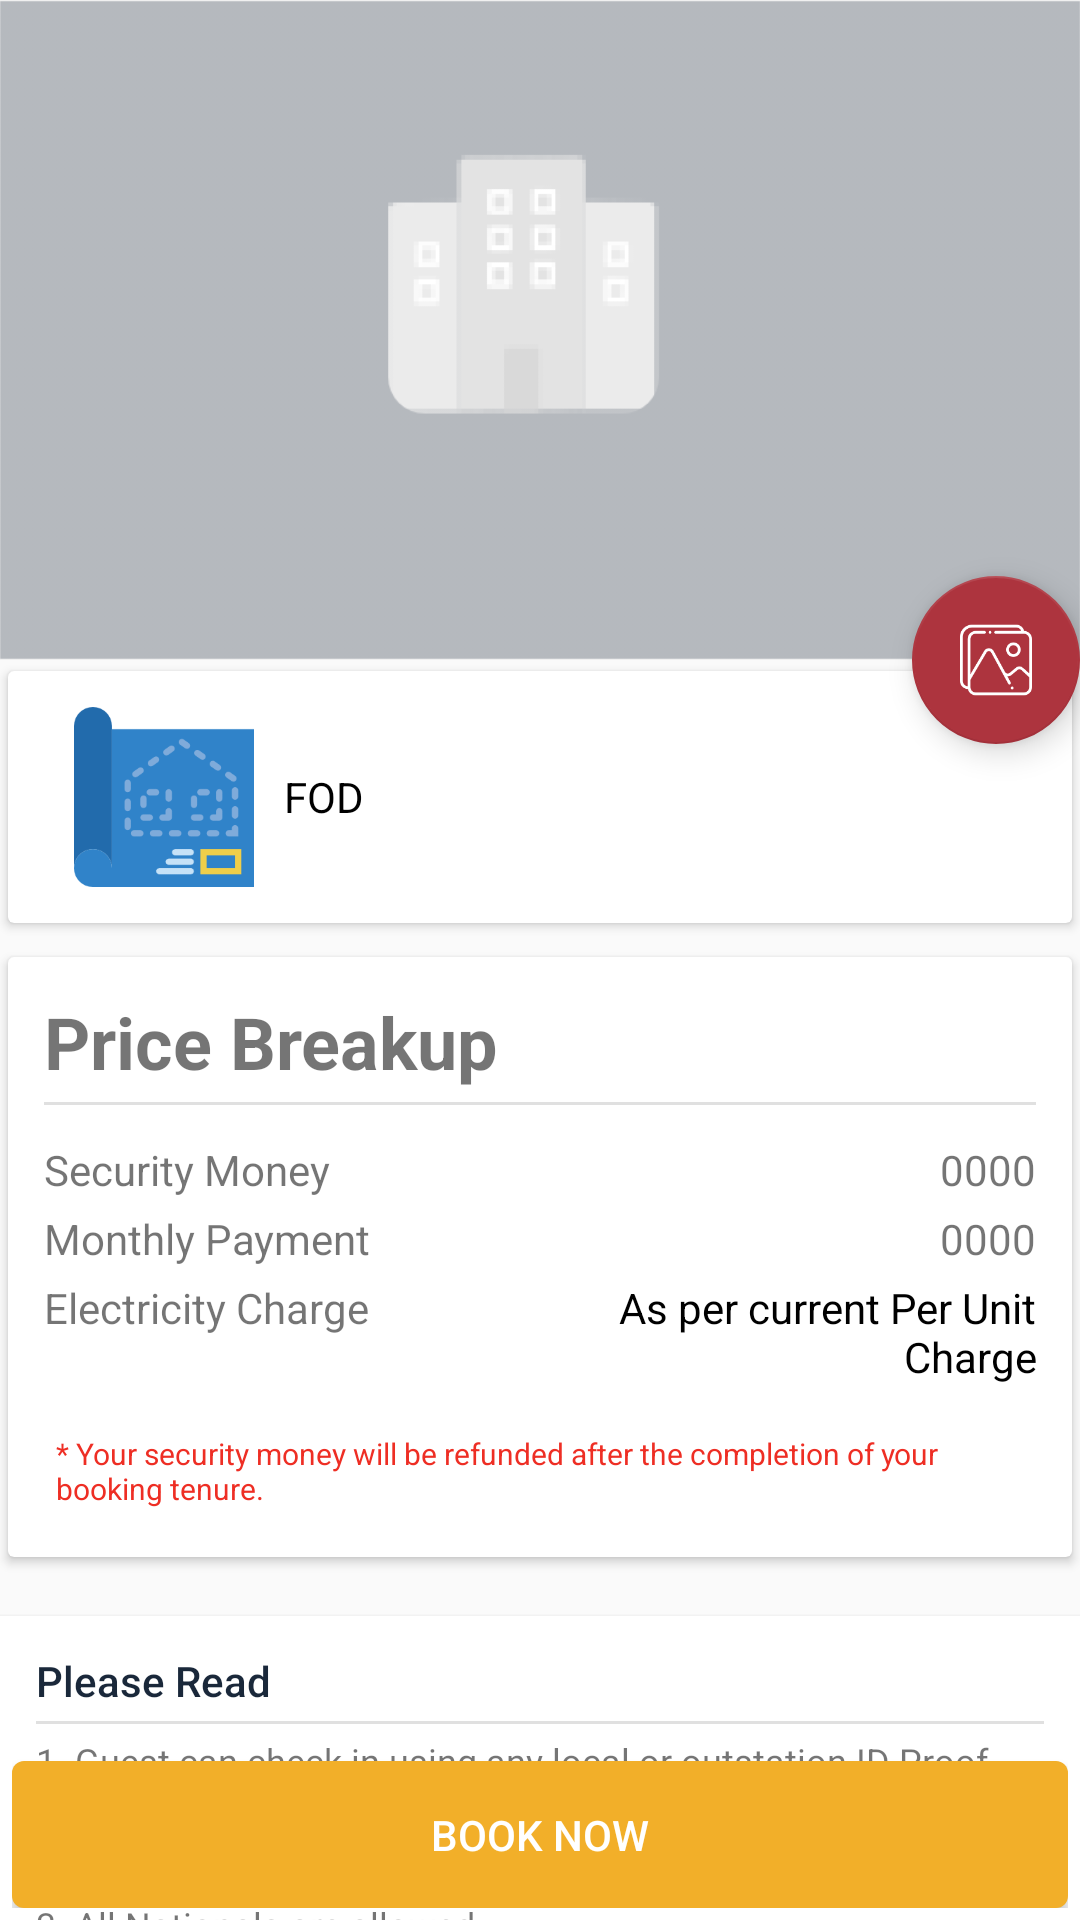

Point at icon controls on the screen. Image size 1080*1920, points as point (x, y).
blueprint: point (164, 797)
gallery: point (996, 660)
